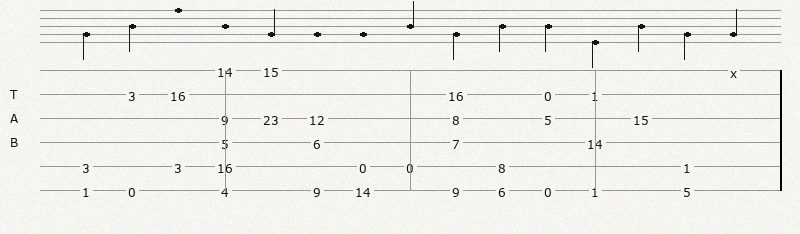0: (128, 184, 140, 197), (359, 160, 371, 173), (406, 160, 418, 173), (544, 184, 556, 197), (544, 88, 556, 101)
1: (82, 184, 94, 197), (591, 184, 603, 197), (591, 88, 603, 101), (683, 160, 695, 173)
12: (309, 112, 329, 125)
14: (217, 64, 237, 77), (355, 184, 375, 197), (587, 136, 607, 149)
15: (263, 64, 283, 77), (633, 112, 653, 125)
16: (170, 88, 190, 101), (217, 160, 237, 173), (448, 88, 468, 101)
23: (263, 112, 283, 125)
3: (82, 160, 94, 173), (128, 88, 140, 101), (174, 160, 186, 173)
4: (221, 184, 233, 197)
5: (221, 136, 233, 149), (544, 112, 556, 125), (683, 184, 695, 197)
6: (313, 136, 325, 149), (498, 184, 510, 197)
7: (452, 136, 464, 149)
8: (452, 112, 464, 125), (498, 160, 510, 173)
9: (221, 112, 233, 125), (313, 184, 325, 197), (452, 184, 464, 197)
x: (730, 65, 741, 76)
